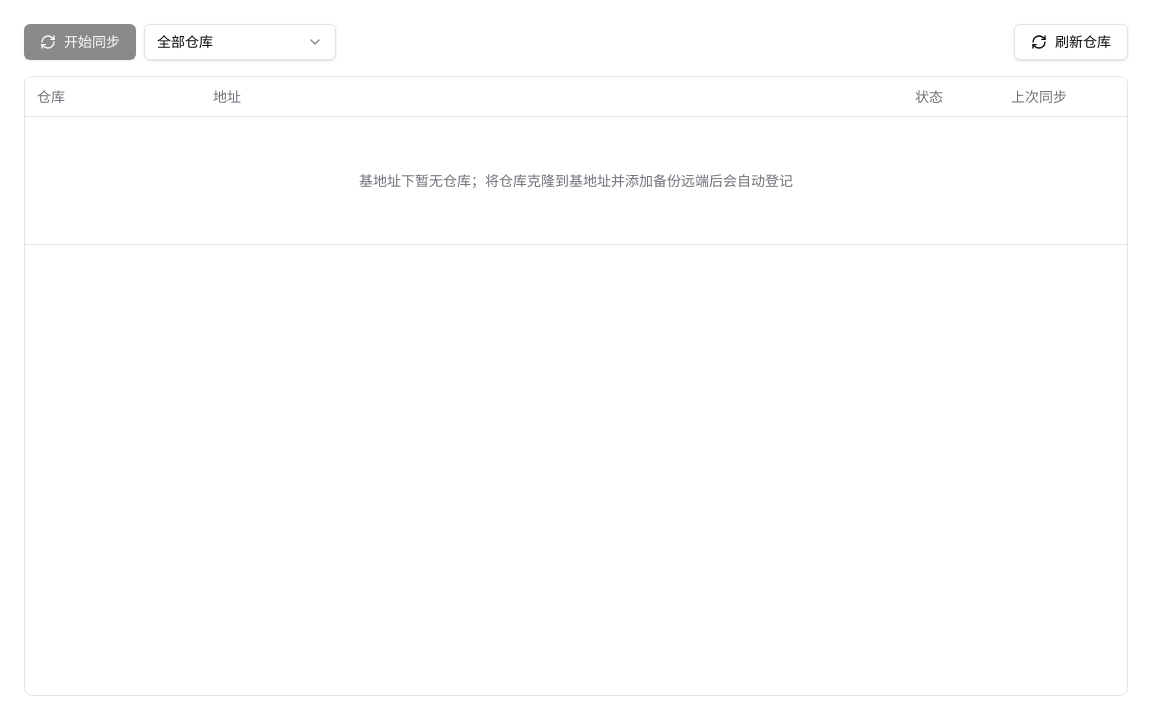
Test: 点击「刷新仓库」重新扫描加载，MCP 新增的仓库可见
The image size is (1152, 720).
Expected: the dropdown is shown, [144,24,336,60]
Expected: the text "mcp-added" is not shown
Click the button "刷新仓库": click(1071, 42) [1014,24,1128,60]
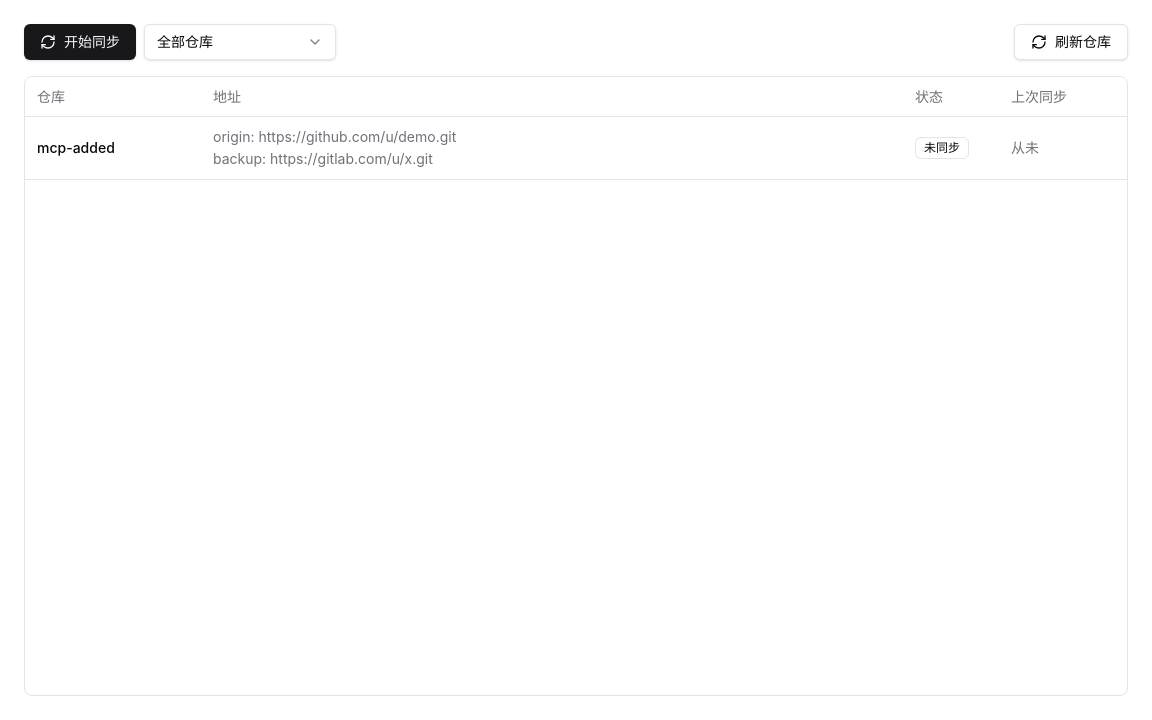
Expected: the text "mcp-added" is shown, [25,117,201,180]
